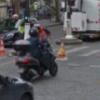motorcycles: (13, 40, 58, 81)
